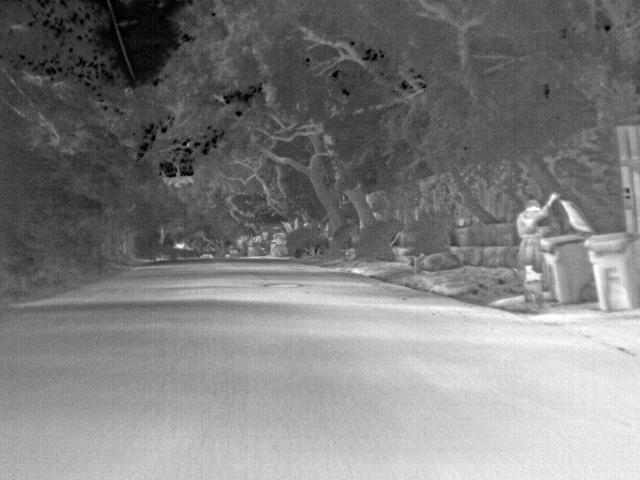person: (514, 192, 558, 310)
